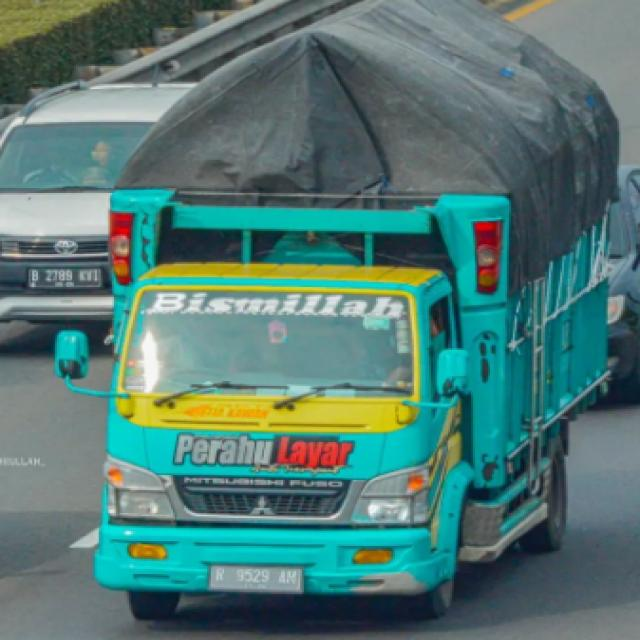Truck: (39, 0, 622, 610)
